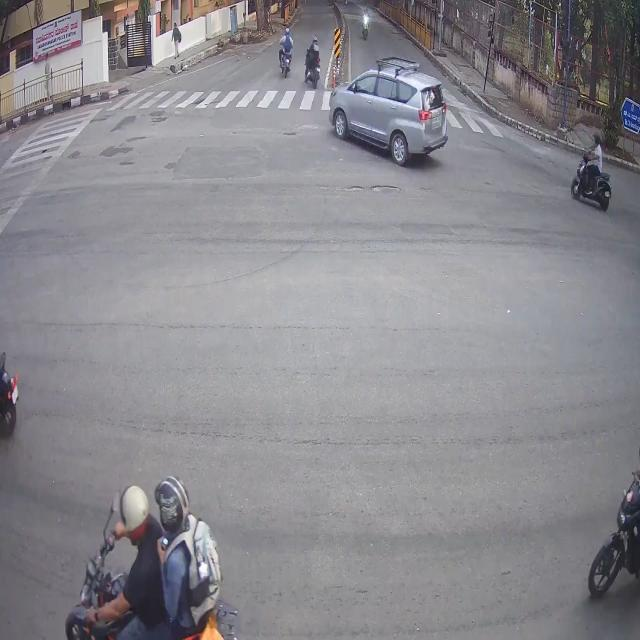Car: (335, 65, 449, 160)
Two-wheelers: (74, 506, 233, 640), (576, 488, 640, 595), (574, 158, 610, 210), (0, 351, 22, 428), (307, 43, 321, 86), (280, 37, 292, 74)
